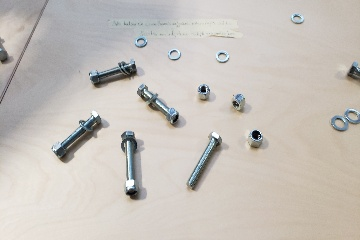Bolt: (182, 129, 223, 194)
FalseAssembly: (45, 107, 105, 165), (120, 130, 143, 198)
FinishedAssembly: (132, 82, 183, 127), (85, 57, 144, 85)
Nut: (246, 128, 267, 151), (230, 92, 249, 112), (195, 83, 213, 102)
Washer: (330, 113, 350, 133), (213, 49, 233, 64), (344, 107, 360, 124), (289, 13, 306, 25), (167, 48, 181, 62), (134, 36, 150, 47)
